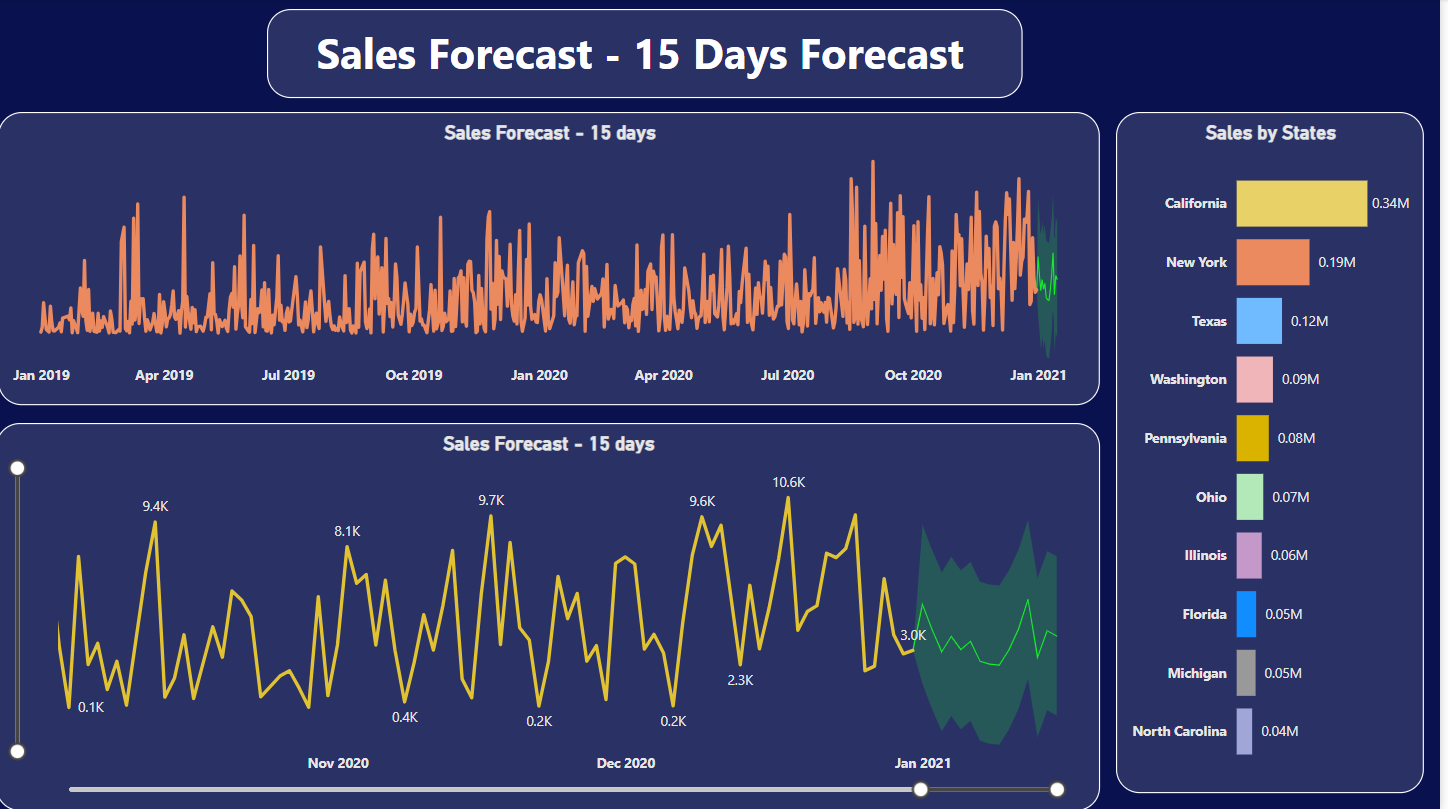

Layout of this report page (visuals, bound fields, positions):
{"tool":"powerbi","page":{"name":"Sales Forecast","canvas":[1280,720],"ordinal":1},"visuals":[{"type":"lineChart","title":"Sales Forecast - 15 days","fields":{"Y":["Sum(Sheet1.Sales)"],"Category":["Sheet1.Order Date"]},"box":[1.4,100,977.1,260],"z":0},{"type":"lineChart","title":"Sales Forecast - 15 days","fields":{"Y":["Sum(Sheet1.Sales)"],"Category":["Sheet1.Order Date"]},"box":[0,375.7,978.6,344.3],"z":1000},{"type":"clusteredBarChart","title":"Sales by States","fields":{"Y":["Sum(Sheet1.Sales)"],"Category":["Sheet1.State"]},"box":[992.9,100,272.9,604.3],"z":2000},{"type":"textbox","box":[240,8.6,670,78.6],"z":3000}]}

Visuals, with their boxes in screenshot pixels (x1, y1, x2, y2), scaled from the page's 1280x720 canvas onto the 1448x809 screenshot:
"Sales Forecast - 15 days" lineChart: 2, 112, 1107, 404
"Sales Forecast - 15 days" lineChart: 0, 422, 1107, 808
"Sales by States" clusteredBarChart: 1123, 112, 1432, 791
textbox: 272, 10, 1029, 98
